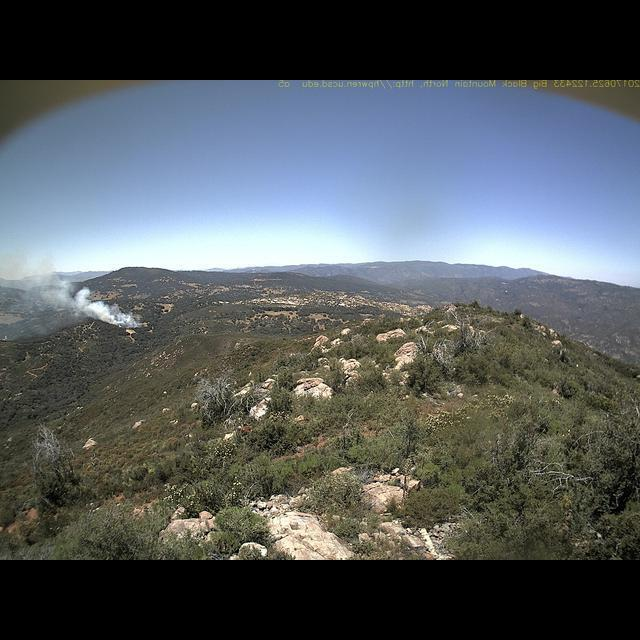Smoke: (4, 244, 148, 336)
